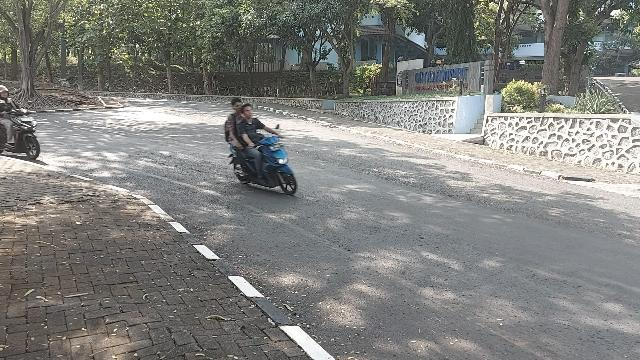helm: (1, 87, 9, 100)
motor: (229, 125, 297, 196), (1, 100, 41, 160)
non-helm: (244, 105, 254, 119), (233, 99, 243, 113)
